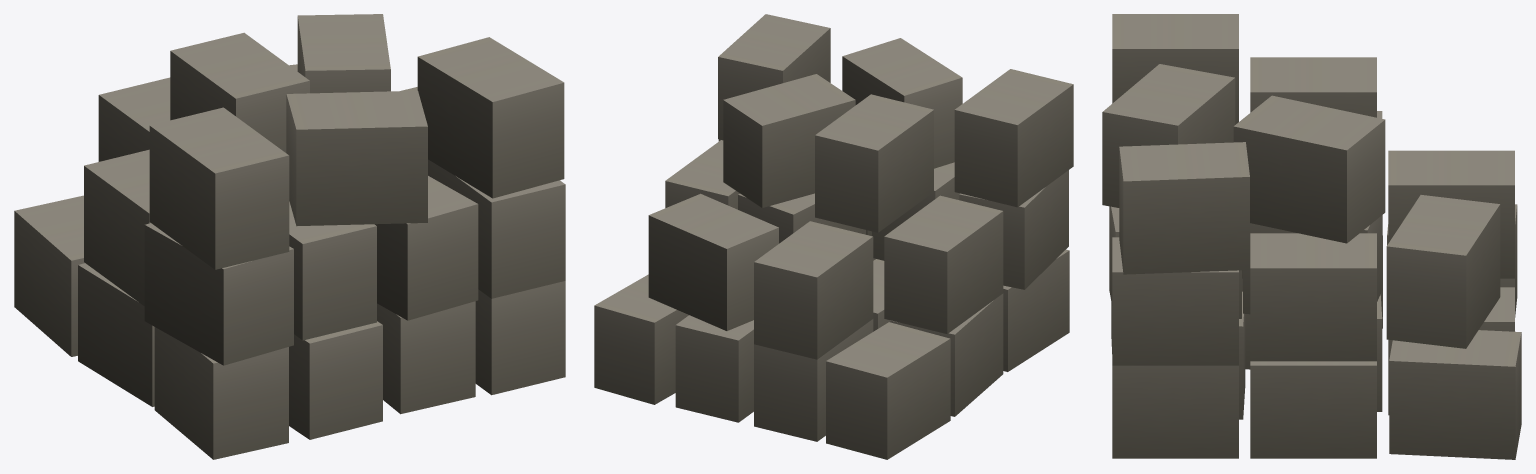
The model's file is ti_brick_pile_1c.glb.
The picture shows the model from 3 angles, left to right: view 1: azimuth 30°, elevation 25°; view 2: azimuth 150°, elevation 25°; view 3: azimuth 270°, elevation 25°; orthographic projection. The views are drawn at different scales.
Visible parts, largest first — view 1: Brick_Pile_1C; view 2: Brick_Pile_1C; view 3: Brick_Pile_1C.
Boxes of the visible parts, x1,y1,x2,y2 form: Brick_Pile_1C: (14,14,565,459); Brick_Pile_1C: (594,14,1073,459); Brick_Pile_1C: (1102,14,1521,459).
Bounding box in the file's own units: 1.96 × 1.5 × 2.04.
Materials: 1 (1 with a texture image).
